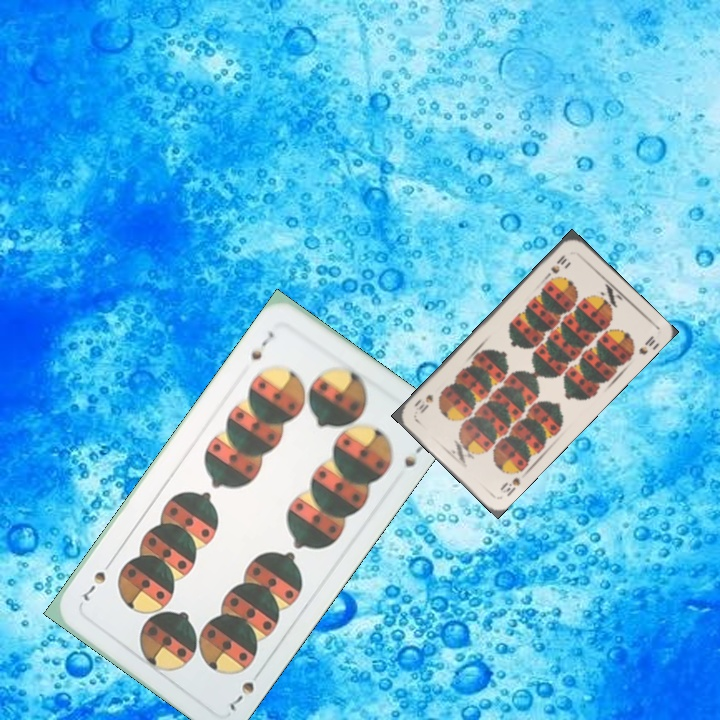S10: (541, 250, 570, 281), (496, 473, 523, 499)
S7: (225, 665, 265, 716), (247, 327, 277, 363)
